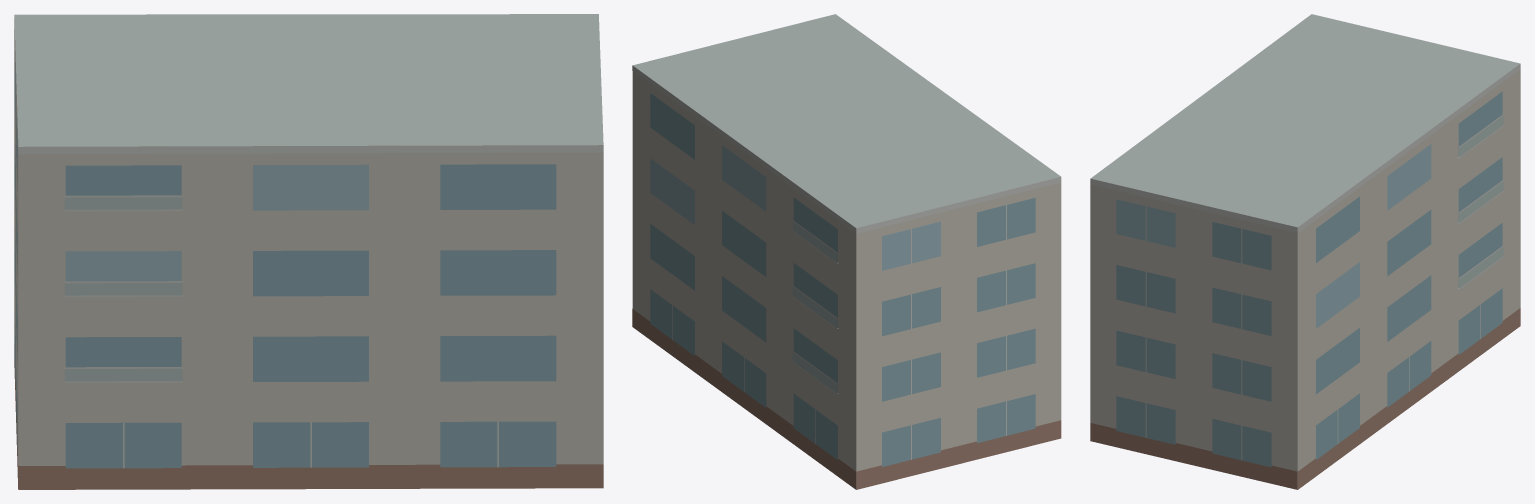
File: survey-upis-32674579.glb
3 views of the same model, side by side, from view 1: azimuth 30°, elevation 25°; view 2: azimuth 150°, elevation 25°; view 3: azimuth 270°, elevation 25° (orthographic). The views are drawn at different scales.
Visible parts, largest first — view 1: survey-upis-32674579.tmp; view 2: survey-upis-32674579.tmp; view 3: survey-upis-32674579.tmp.
Boxes of the visible parts, x1=… form: survey-upis-32674579.tmp: x1=14, y1=14, x2=603, y2=489; survey-upis-32674579.tmp: x1=632, y1=14, x2=1061, y2=489; survey-upis-32674579.tmp: x1=1090, y1=14, x2=1520, y2=489.
Bounding box in the file's own units: 19.71 × 11.3 × 16.79.
